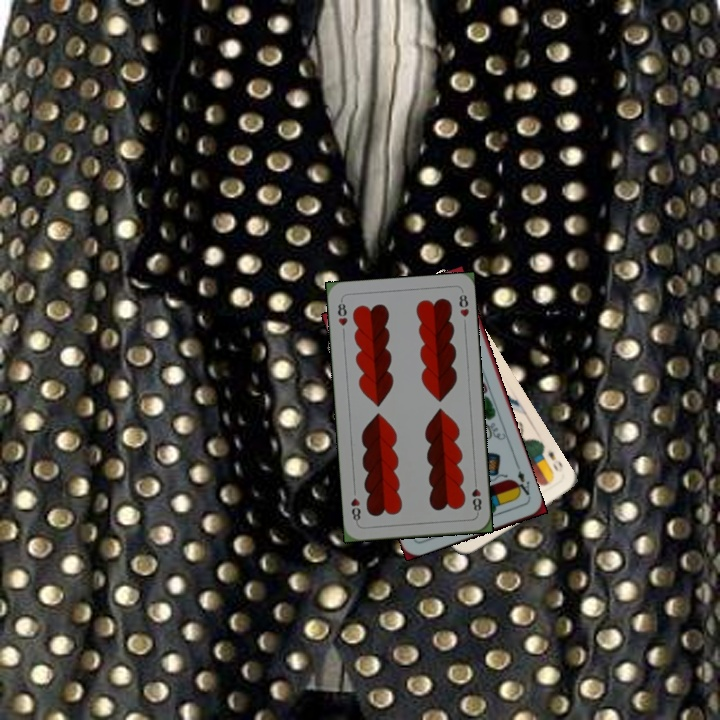EA: (510, 462, 533, 501)
EO: (543, 447, 565, 474)
H8: (468, 476, 484, 516), (334, 296, 350, 328)
